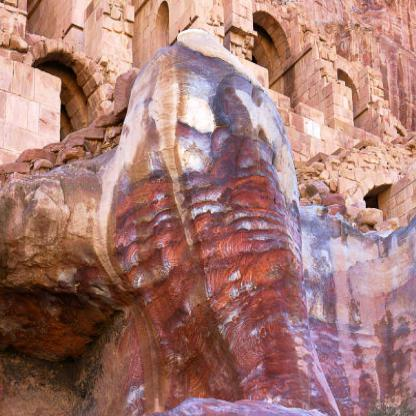Sedimentary_Sandstone: (96, 20, 345, 415), (304, 211, 416, 415), (0, 164, 109, 366)
